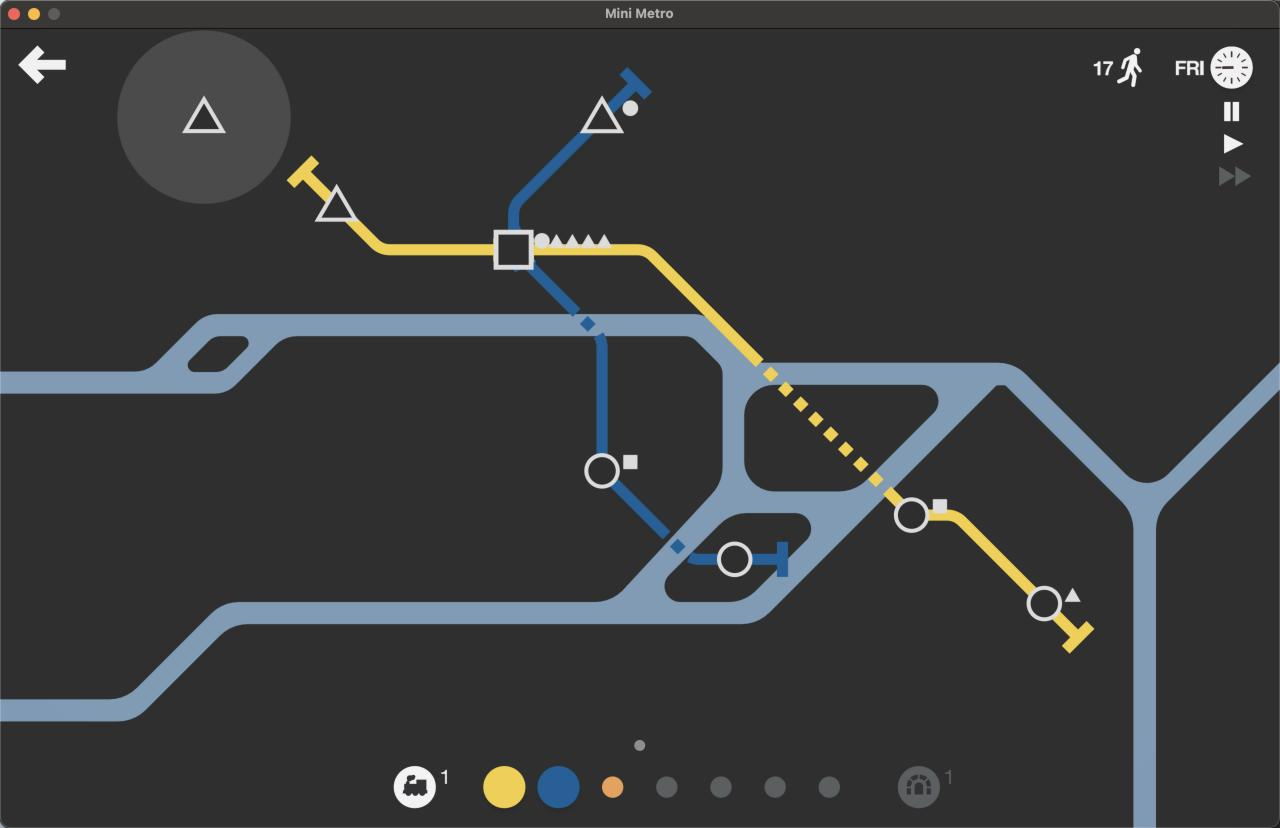CIRCLE: (893, 495, 932, 534), (1026, 584, 1064, 622), (716, 540, 753, 578), (584, 452, 621, 489)
SQUARE: (492, 227, 536, 269)
TRIANGLE: (180, 95, 227, 134), (581, 94, 625, 134), (314, 184, 358, 223), (1064, 588, 1080, 603)
